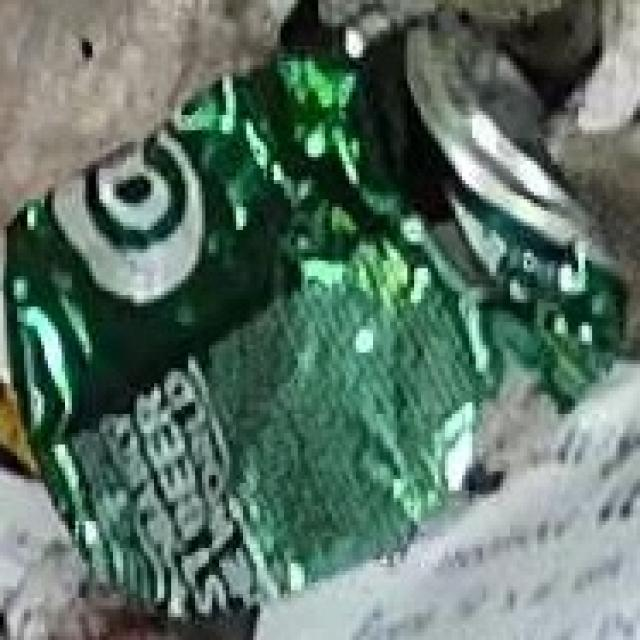can: (11, 20, 627, 619)
